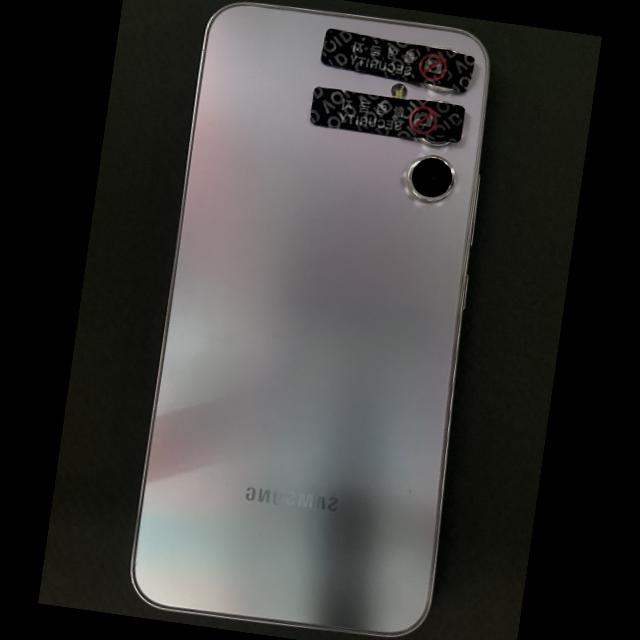lens: (407, 155, 456, 202), (424, 84, 453, 92), (420, 138, 448, 146)
phone: (129, 0, 492, 639)
sticker: (320, 28, 475, 92), (310, 86, 465, 143)
